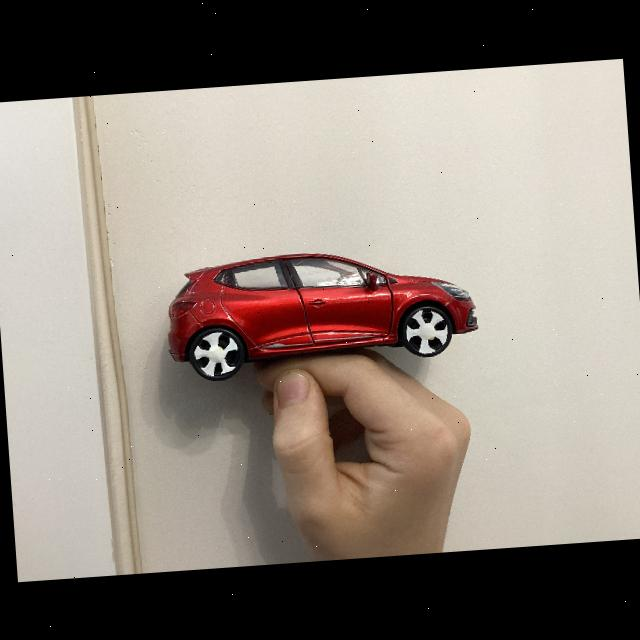Yanlis_Jant: (190, 330, 240, 379), (404, 306, 450, 355)
